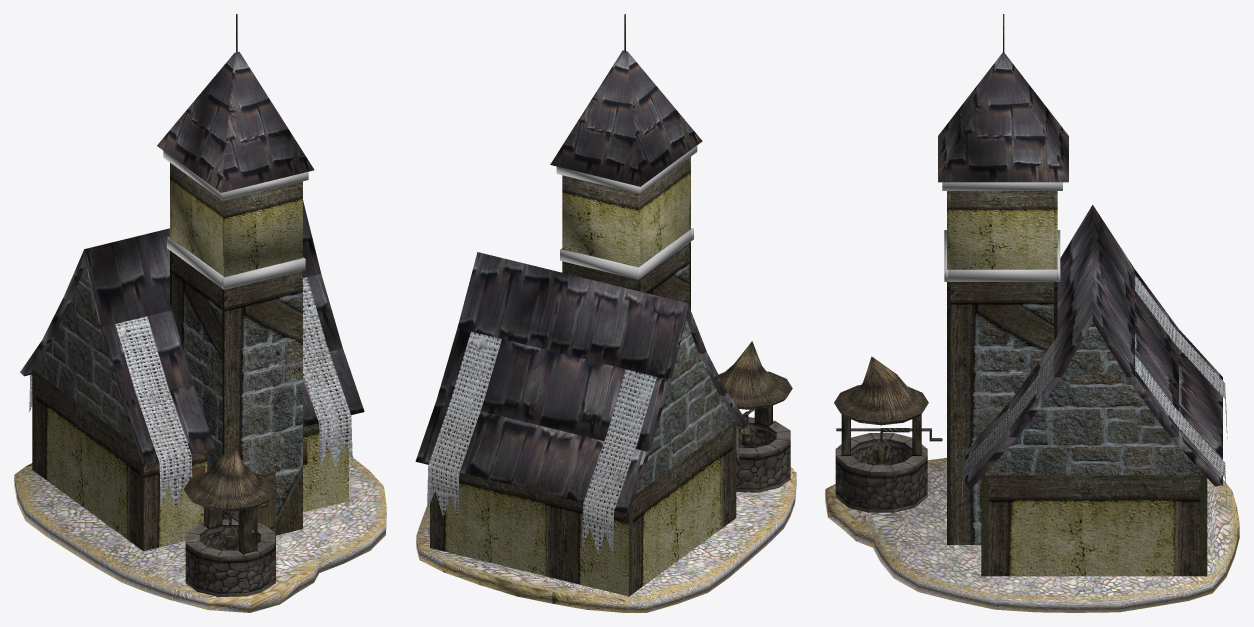
File: town.fbx
The picture shows the model from 3 angles, left to right: view 1: azimuth 30°, elevation 25°; view 2: azimuth 150°, elevation 25°; view 3: azimuth 270°, elevation 25°; orthographic projection. The views are drawn at different scales.
Parts seen in each view (by area): view 1: Vez_steny2, Circle, Strecha, Steny, Vez_strecha, Prapory, Studna, Vez_steny1, Stit, Vez_soklik1, Vez_soklik0, Postrani_tramy (+2 smaller); view 2: Strecha, Steny, Circle, Prapory, Vez_strecha, Vez_steny1, Studna, Stit, Vez_steny2, Vez_soklik1, Vez_soklik0, Postrani_tramy; view 3: Steny, Circle, Strecha, Stit, Vez_steny2, Vez_strecha, Studna, Vez_steny1, Prapory, Vez_soklik1, Postrani_tramy, Vez_krytky_rohu (+1 smaller).
Boxes of the visible parts, bbox=[...] form: Vez_steny2: bbox=[171, 252, 302, 535]; Circle: bbox=[14, 454, 386, 612]; Strecha: bbox=[20, 200, 364, 464]; Steny: bbox=[36, 372, 348, 551]; Vez_strecha: bbox=[157, 51, 314, 192]; Prapory: bbox=[29, 277, 352, 508]; Studna: bbox=[183, 447, 276, 596]; Vez_steny1: bbox=[170, 162, 302, 276]; Stit: bbox=[33, 265, 136, 445]; Vez_soklik1: bbox=[167, 236, 305, 289]; Vez_soklik0: bbox=[163, 151, 308, 200]; Postrani_tramy: bbox=[32, 369, 143, 550]; Strecha: bbox=[415, 252, 748, 512]; Steny: bbox=[430, 423, 732, 596]; Circle: bbox=[416, 466, 796, 612]; Prapory: bbox=[427, 331, 739, 555]; Vez_strecha: bbox=[550, 50, 702, 186]; Vez_steny1: bbox=[562, 157, 690, 267]; Studna: bbox=[718, 341, 792, 492]; Stit: bbox=[636, 319, 736, 493]; Vez_steny2: bbox=[562, 243, 689, 305]; Vez_soklik1: bbox=[560, 228, 693, 279]; Vez_soklik0: bbox=[556, 145, 697, 193]; Postrani_tramy: bbox=[629, 421, 736, 596]; Steny: bbox=[988, 374, 1200, 576]; Circle: bbox=[825, 458, 1239, 612]; Strecha: bbox=[965, 205, 1222, 486]; Stit: bbox=[984, 322, 1204, 475]; Vez_steny2: bbox=[950, 282, 1053, 544]; Vez_strecha: bbox=[938, 52, 1068, 182]; Studna: bbox=[834, 356, 942, 512]; Vez_steny1: bbox=[947, 191, 1057, 269]; Prapory: bbox=[961, 275, 1227, 522]; Vez_soklik1: bbox=[944, 230, 1060, 281]; Postrani_tramy: bbox=[981, 475, 1207, 576]; Vez_krytky_rohu: bbox=[947, 282, 1057, 544].
Bounding box in the file's own units: 2.51 × 4.15 × 2.97.
